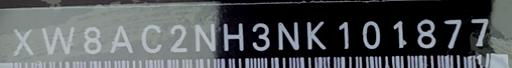letter: (38, 24, 78, 56), (220, 21, 248, 53), (439, 13, 463, 49), (414, 16, 438, 51), (276, 19, 302, 51), (138, 22, 164, 54), (468, 14, 492, 48), (304, 18, 328, 50), (192, 22, 218, 51), (359, 17, 381, 51), (10, 25, 34, 56), (334, 19, 356, 51), (168, 22, 190, 54), (250, 20, 272, 51), (110, 24, 132, 55), (388, 16, 408, 48), (82, 25, 102, 53)
